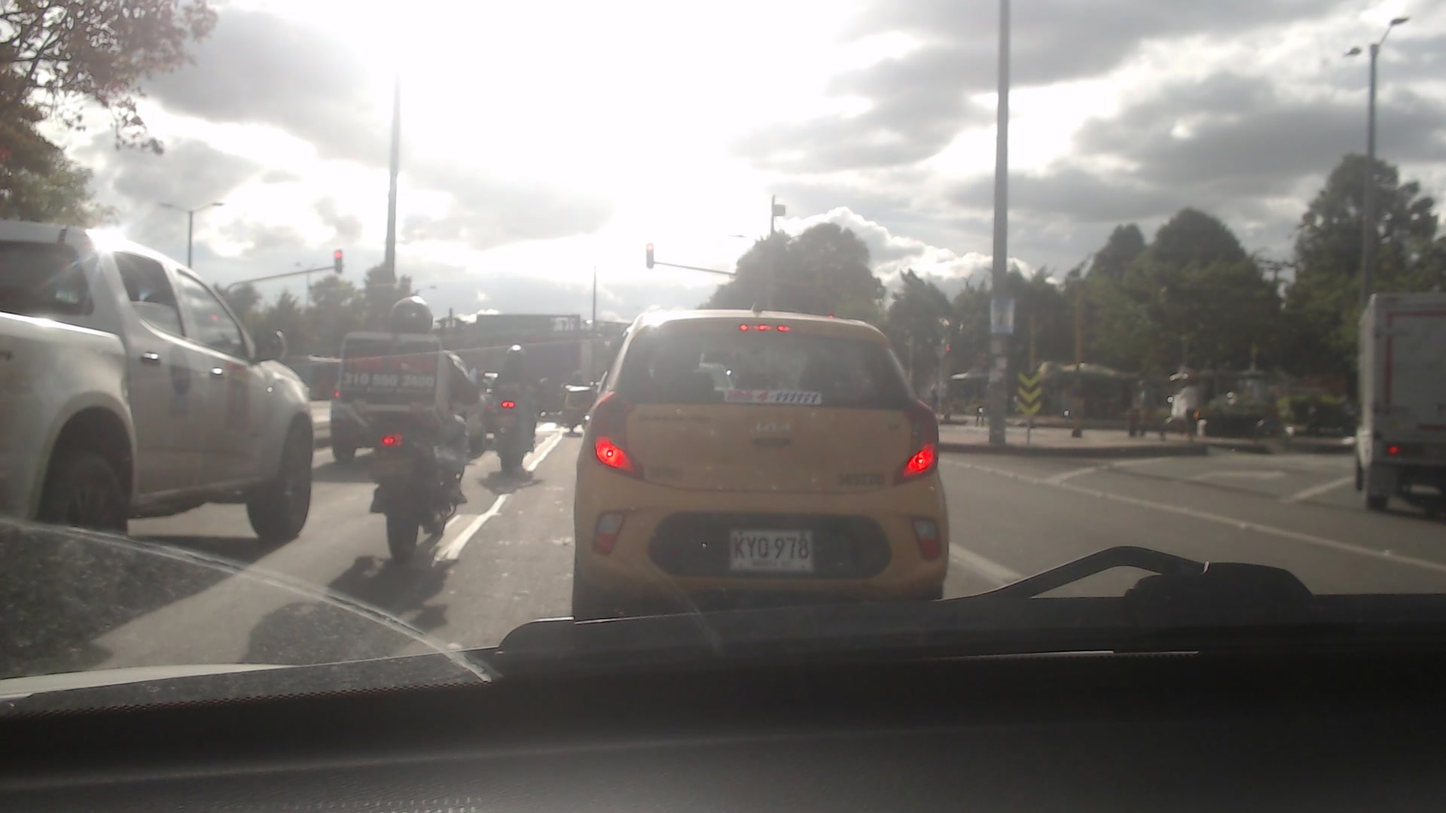car: (559, 304, 945, 629), (0, 215, 313, 560)
motorcycle: (348, 422, 471, 567), (487, 401, 543, 478)
person: (497, 339, 531, 423)
